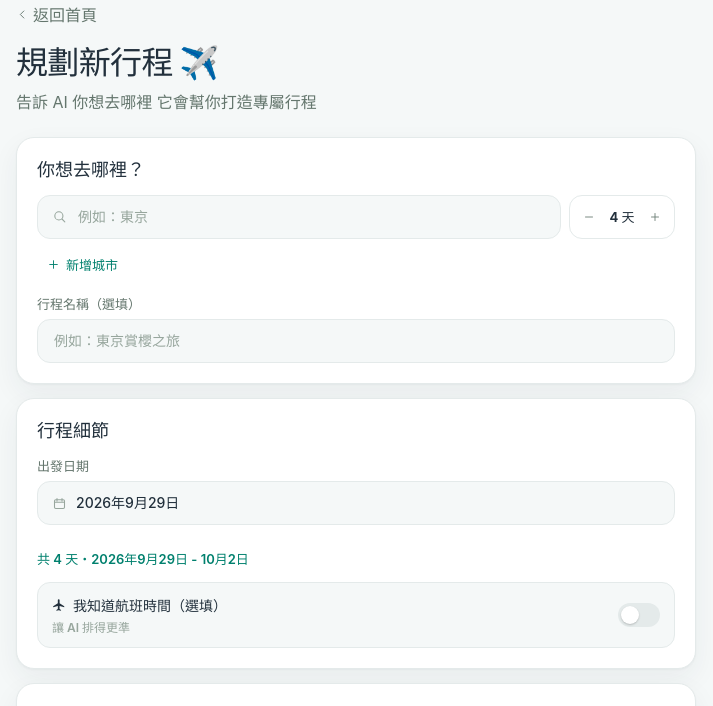
Scenario: CreateTripPage › blocks submit and shows an error when the start date is blank
Type "京都，日本" into the dropdown with placeholder "例如：東京".
click(311, 217); type("京都，日本")  # box [76,208,546,226]
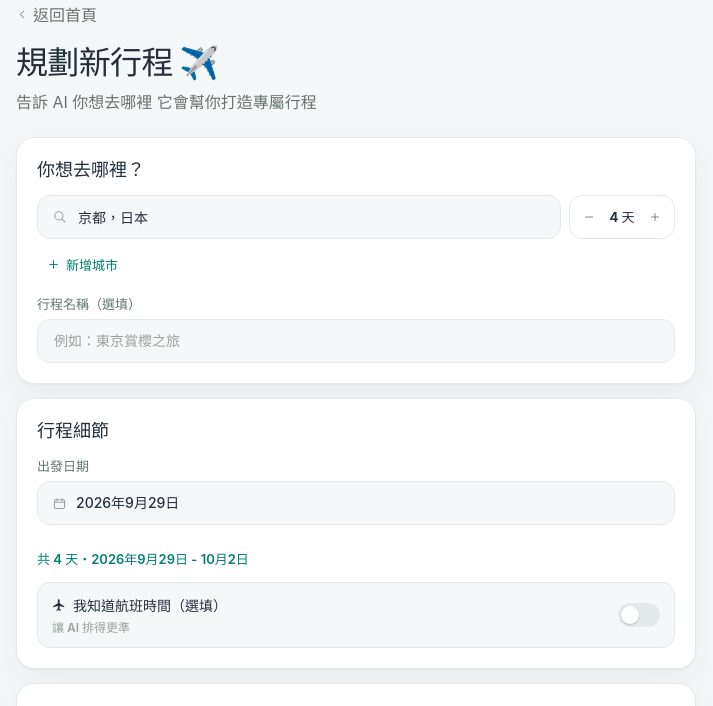
Clear the date field labelled "出發日期 2026年9月29日" at (356, 491), box [37,456,675,525]
(page scrolled)
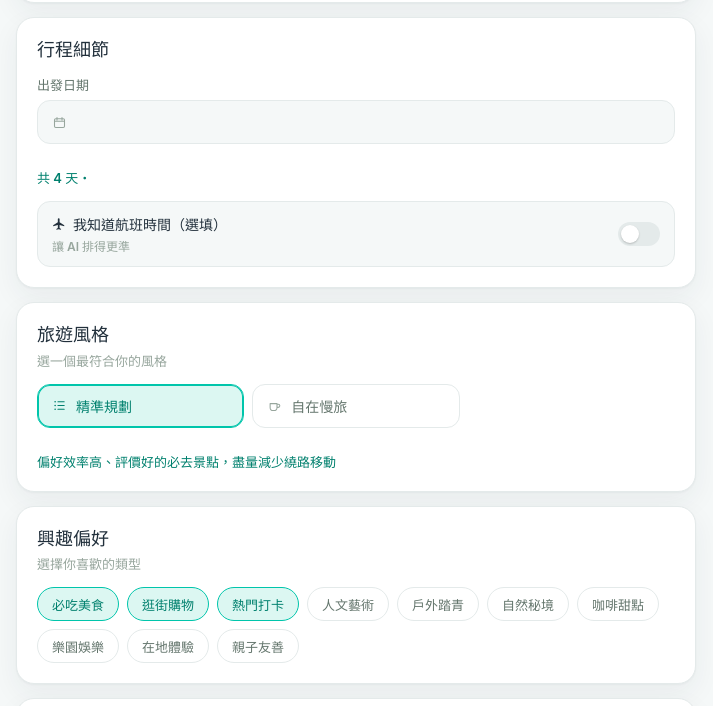
Submit the form
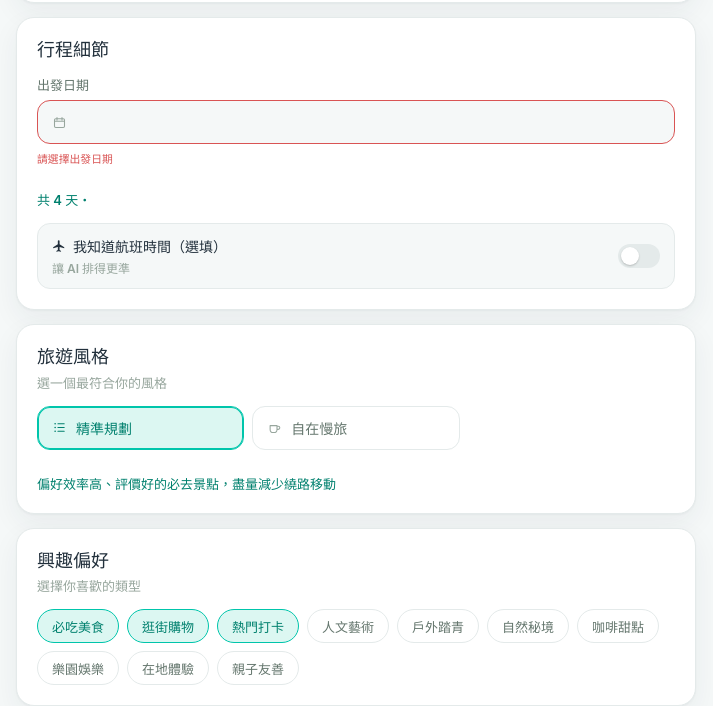
Now the text "請選擇出發日期" is shown, box [37,153,113,166]
